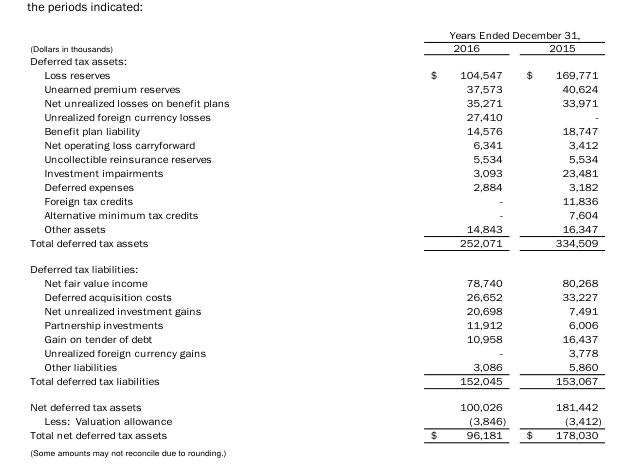table: (29, 28, 600, 440)
table column: (29, 28, 329, 440), (329, 28, 515, 440), (515, 28, 600, 440)
table column header: (29, 28, 600, 53)
table projected row header: (29, 255, 600, 275), (29, 53, 600, 67)
table row: (29, 234, 600, 255), (29, 255, 600, 275), (29, 373, 600, 393), (29, 393, 600, 413), (29, 53, 600, 67), (29, 67, 600, 81), (29, 81, 600, 95), (29, 95, 600, 109), (29, 109, 600, 123), (29, 123, 600, 137), (29, 137, 600, 151), (29, 151, 600, 165), (29, 165, 600, 179), (29, 192, 600, 206), (29, 206, 600, 220), (29, 220, 600, 234), (29, 275, 600, 289), (29, 289, 600, 303), (29, 303, 600, 317), (29, 317, 600, 331), (29, 331, 600, 345), (29, 345, 600, 359), (29, 359, 600, 373), (29, 413, 600, 427), (29, 40, 600, 53), (29, 179, 600, 192), (29, 427, 600, 440), (29, 28, 600, 40)
table spanning cell: (29, 28, 329, 53), (329, 28, 600, 40)
